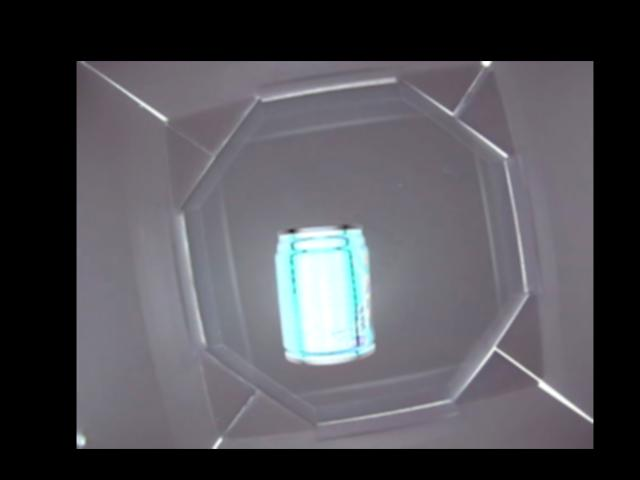Bottle: (271, 224, 377, 368)
